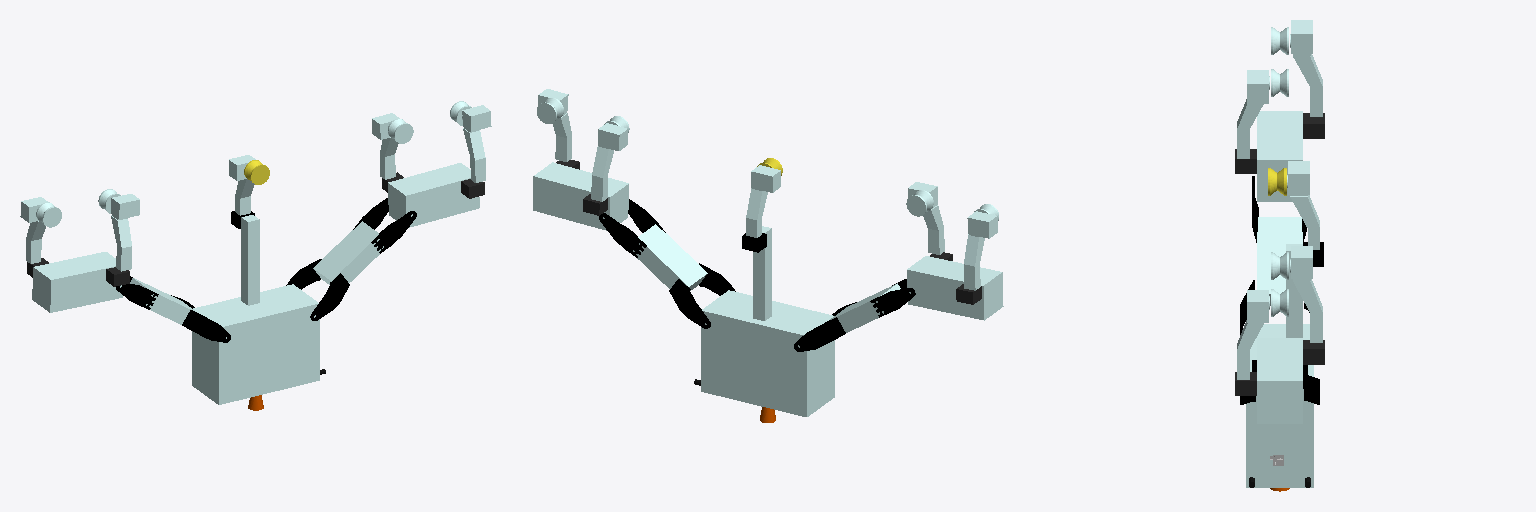
--- Render facts (derived) ---
Views: 3 orthographic renders of the robot side by side, from view 1: azimuth 30°, elevation 25°; view 2: azimuth 150°, elevation 25°; view 3: azimuth 270°, elevation 25°.
Model elir_robot with 22 links and 21 joints (9 revolute, 5 continuous, 7 fixed), rooted at base_link, posed every joint at zero.
Visible links, largest first — view 1: box_link, link1_f, tracao_b, tracao_f, link1_b, garra_tracao_b1, garra_tracao_f2, garra_tracao_b2, garra_tracao_f1, garra_ap; view 2: box_link, link1_f, tracao_b, tracao_f, link1_b, garra_tracao_b2, garra_tracao_f1, garra_ap, garra_tracao_b1, garra_tracao_f2, eixo_tracao_b1, eixo_tracao_f2; view 3: box_link, tracao_f, tracao_b, link1_b, garra_tracao_b2, garra_tracao_f1, garra_tracao_b1, garra_tracao_f2, garra_ap, link1_f.
Link boxes in pixels (x1,y1,x2,y2): box_link: (192,211,319,404); link1_f: (286,198,416,320); tracao_b: (27,252,129,312); tracao_f: (382,163,484,227); link1_b: (116,276,230,342); garra_tracao_b1: (111,194,139,271); garra_tracao_f2: (462,105,491,182); garra_tracao_b2: (20,197,47,263); garra_tracao_f1: (372,113,399,179); garra_ap: (229,155,255,215); box_link: (701,226,834,416); link1_f: (599,199,735,328); tracao_b: (907,252,1003,320); tracao_f: (533,160,628,230); link1_b: (794,279,915,351); garra_tracao_b2: (964,211,997,290); garra_tracao_f1: (591,123,627,201); garra_ap: (746,165,780,237); garra_tracao_b1: (908,182,944,254); garra_tracao_f2: (538,89,571,161); eixo_tracao_b1: (906,190,933,216); eixo_tracao_f2: (537,98,563,123); box_link: (1246,242,1323,487); tracao_f: (1235,338,1324,423); tracao_b: (1235,111,1324,201); link1_b: (1240,176,1309,334); garra_tracao_b2: (1290,20,1322,116); garra_tracao_f1: (1290,246,1322,342); garra_tracao_b1: (1237,70,1269,158); garra_tracao_f2: (1237,290,1269,379); garra_ap: (1287,161,1319,249); link1_f: (1240,360,1319,404).
Bounding box of the posed robot: 1.42 × 0.19 × 0.7716 m (x, y, z).
20 mesh visuals loaded from 7 distinct referenced files (4 binary STL, 2 Collada DAE); not drawn: 1 (reference not matched to a file when rendering).

The robot description file, URDF, robot "elir_robot":
<?xml version="1.0" ?>
<!-- =================================================================================== -->
<!-- |    This document was autogenerated by xacro from elir.urdf.xacro                | -->
<!-- |    EDITING THIS FILE BY HAND IS NOT RECOMMENDED                                 | -->
<!-- =================================================================================== -->
<robot name="elir_robot" xmlns:controller="http://playerstage.sourceforge.net/gazebo/xmlschema/#controller" xmlns:interface="http://playerstage.sourceforge.net/gazebo/xmlschema/#interface" xmlns:sensor="http://playerstage.sourceforge.net/gazebo/xmlschema/#sensor" xmlns:xacro="http://www.ros.org/wiki/xacro">
  <material name="black">
    <color rgba="0.0 0.0 0.0 1.0"/>
  </material>
  <material name="blue">
    <color rgba="0.0 0.0 0.8 1.0"/>
  </material>
  <material name="green">
    <color rgba="0.0 0.8 0.0 1.0"/>
  </material>
  <material name="grey">
    <color rgba="0.2 0.2 0.2 1.0"/>
  </material>
  <material name="orange">
    <color rgba="1.0 0.423529411765 0.0392156862745 1.0"/>
  </material>
  <material name="brown">
    <color rgba="0.870588235294 0.811764705882 0.764705882353 1.0"/>
  </material>
  <material name="red">
    <color rgba="0.8 0.0 0.0 1.0"/>
  </material>
  <material name="white">
    <color rgba="1.0 1.0 1.0 1.0"/>
  </material>
  <material name="silver">
    <color rgba="0.870588235294 1.0 0.996078431373 1.0"/>
  </material>
  <gazebo>
    <plugin filename="libgazebo_ros_control.so" name="gazebo_ros_control">
      <robotNamespace>/robot</robotNamespace>
      <robotSimType>gazebo_ros_control/DefaultRobotHWSim</robotSimType>
    </plugin>
  </gazebo>
  <!-- Base link-->
  <gazebo reference="base_link">
    <dampingFactor>0.01</dampingFactor>
    <material name="grey"/>
    <self_collide>true</self_collide>
  </gazebo>
  <!-- Link1 -->
  <gazebo reference="link1_f">
    <dampingFactor>0.01</dampingFactor>
    <material name="grey"/>
  </gazebo>
  <gazebo reference="link1_t">
    <dampingFactor>0.01</dampingFactor>
    <material name="grey"/>
  </gazebo>
  <!-- Tracao -->
  <gazebo reference="tracao_f">
    <dampingFactor>0.01</dampingFactor>
    <material name="grey"/>
  </gazebo>
  <gazebo reference="tracao_b">
    <dampingFactor>0.01</dampingFactor>
    <material name="grey"/>
  </gazebo>
  <!-- Garras -->
  <gazebo reference="garra_ap">
    <dampingFactor>0.02</dampingFactor>
    <material name="grey"/>
  </gazebo>
  <gazebo reference="garra_tracao_f1">
    <dampingFactor>0.02</dampingFactor>
    <material name="grey"/>
  </gazebo>
  <gazebo reference="garra_tracao_f2">
    <dampingFactor>0.02</dampingFactor>
    <material name="grey"/>
  </gazebo>
  <gazebo reference="garra_tracao_b1">
    <dampingFactor>0.02</dampingFactor>
    <material name="grey"/>
  </gazebo>
  <gazebo reference="garra_tracao_b2">
    <dampingFactor>0.02</dampingFactor>
    <material name="grey"/>
  </gazebo>
  <!-- Eixos -->
  <gazebo reference="eixo_tracao_ap">
    <mu1>0.3</mu1>
    <mu2>0.3</mu2>
    <material name="black"/>
  </gazebo>
  <gazebo reference="eixo_tracao_f1">
    <mu1>0.3</mu1>
    <mu2>0.3</mu2>
    <material name="black"/>
  </gazebo>
  <gazebo reference="eixo_tracao_f2">
    <mu1>0.3</mu1>
    <mu2>0.3</mu2>
    <material name="black"/>
  </gazebo>
  <gazebo reference="eixo_tracao_b1">
    <mu1>0.3</mu1>
    <mu2>0.3</mu2>
    <material name="black"/>
  </gazebo>
  <gazebo reference="eixo_tracao_b2">
    <mu1>0.3</mu1>
    <mu2>0.3</mu2>
    <material name="black"/>
  </gazebo>
  <gazebo reference="zed_left_camera">
    <sensor name="zed_left_camera" type="camera">
      <update_rate>30.0</update_rate>
      <camera name="head">
        <horizontal_fov>1.3962634</horizontal_fov>
        <image>
          <width>800</width>
          <height>800</height>
          <format>R8G8B8</format>
        </image>
        <clip>
          <near>0.02</near>
          <far>300</far>
        </clip>
        <noise>
          <type>gaussian</type>
          <mean>0.0</mean>
          <stddev>0.007</stddev>
        </noise>
      </camera>
      <plugin filename="libgazebo_ros_camera.so" name="camera_controller">
        <alwaysOn>true</alwaysOn>
        <updateRate>0.0</updateRate>
        <cameraName>detection/zed_left_camera</cameraName>
        <imageTopicName>image_raw</imageTopicName>
        <cameraInfoTopicName>camera_info</cameraInfoTopicName>
        <frameName>camera_link</frameName>
        <hackBaseline>0.07</hackBaseline>
        <distortionK1>0.0</distortionK1>
        <distortionK2>0.0</distortionK2>
        <distortionK3>0.0</distortionK3>
        <distortionT1>0.0</distortionT1>
        <distortionT2>0.0</distortionT2>
      </plugin>
    </sensor>
  </gazebo>
  <gazebo reference="zed_right_camera">
    <sensor name="zed_right_camera" type="camera">
      <update_rate>30.0</update_rate>
      <camera name="head">
        <horizontal_fov>1.3962634</horizontal_fov>
        <image>
          <width>800</width>
          <height>800</height>
          <format>R8G8B8</format>
        </image>
        <clip>
          <near>0.02</near>
          <far>300</far>
        </clip>
        <noise>
          <type>gaussian</type>
          <mean>0.0</mean>
          <stddev>0.007</stddev>
        </noise>
      </camera>
      <plugin filename="libgazebo_ros_camera.so" name="camera_controller">
        <alwaysOn>true</alwaysOn>
        <updateRate>0.0</updateRate>
        <cameraName>detection/zed_right_camera</cameraName>
        <imageTopicName>image_raw</imageTopicName>
        <cameraInfoTopicName>camera_info</cameraInfoTopicName>
        <frameName>camera_link</frameName>
        <hackBaseline>0.07</hackBaseline>
        <distortionK1>0.0</distortionK1>
        <distortionK2>0.0</distortionK2>
        <distortionK3>0.0</distortionK3>
        <distortionT1>0.0</distortionT1>
        <distortionT2>0.0</distortionT2>
      </plugin>
    </sensor>
  </gazebo>
  <gazebo reference="ground_sonar">
    <sensor name="ground_sonar" type="ray">
      <always_on>true</always_on>
      <update_rate>30</update_rate>
      <pose>0 0 0 0 0 0</pose>
      <visualize>false</visualize>
      <ray>
        <scan>
          <horizontal>
            <samples>1</samples>
            <resolution>1</resolution>
            <min_angle>-0.52355</min_angle>
            <max_angle> 0.52355</max_angle>
          </horizontal>
          <vertical>
            <samples>1</samples>
            <resolution>1</resolution>
            <min_angle>-0.52355</min_angle>
            <max_angle> 0.52355</max_angle>
          </vertical>
        </scan>
        <range>
          <min>0.1</min>
          <max>100</max>
          <resolution>0.01</resolution>
        </range>
      </ray>
      <plugin filename="libhector_gazebo_ros_sonar.so" name="gazebo_ros_ground_sonar_controller">
        <gaussianNoise>0.005</gaussianNoise>
        <topicName>perception/ground_sonar</topicName>
        <frameId>ground_sonar</frameId>
      </plugin>
    </sensor>
  </gazebo>
  <gazebo reference="flir_camera">
    <sensor name="thermal_camera_sensor" type="camera">
      <update_rate>30</update_rate>
      <camera>
        <horizontal_fov>0.890117733333</horizontal_fov>
        <image>
          <format>R8G8B8</format>
          <width>60</width>
          <height>80</height>
        </image>
        <clip>
          <near>0.1</near>
          <far>300</far>
        </clip>
      </camera>
      <plugin filename="libgazebo_ros_thermal_camera.so" name="thermal_camera_controller">
        <alwaysOn>true</alwaysOn>
        <updateRate>8.6</updateRate>
        <imageTopicName>/perception/flir_camera/image_raw</imageTopicName>
        <cameraInfoTopicName>/perception/flir_camera/camera_info</cameraInfoTopicName>
        <frameName>flir_camera_optical_frame</frameName>
      </plugin>
    </sensor>
  </gazebo>
  <!-- Parametros do box_link-->
  <link name="base_link">
  </link>
  <joint name="base_joint" type="fixed">
    <origin rpy="0.0 0.0 0.0" xyz="0.0 0.0 0.11785"/>
    <parent link="base_link"/>
    <child link="box_link"/>
    <axis xyz="0.0 0.0 0.0"/>
    <limit effort="0.0" lower="0.0" upper="0.0" velocity="0.0"/>
  </joint>
  <!-- This link represents the base body of the robot, the central stem and the central's claw base -->
  <link name="box_link">
    <!-- This visual represents the base body-->
    <visual name="base_body">
      <geometry>
        <box size="0.3219 0.1461 0.2357"/>
      </geometry>
      <material name="silver"/>
    </visual>
    <!-- This visual represents the central stem -->
    <visual name="central_stem">
      <geometry>
        <box size="0.0367 0.0367 0.279"/>
      </geometry>
      <material name="silver"/>
      <!-- <xacro:insert_block name="a.test_central_stem_origin" /> -->
      <origin rpy="0 0 0" xyz="0 0.0303 0.23365"/>
    </visual>
    <!-- This visual represents the claw's base in the central stem -->
    <!-- Need to check mesh design to see if dimensions is the same as the actual dimensions of elir -->
    <visual name="central_claw_base">
      <geometry>
        <box size="0.051 0.045 0.036 "/>
      </geometry>
      <material name="black"/>
      <origin rpy="0 0 0" xyz="0.0 0.0722 0.3554"/>
    </visual>
    <!-- This collision is for the base_body -->
    <collision name="base_body">
      <geometry>
        <box size="0.3219 0.1461 0.2357"/>
      </geometry>
      <origin rpy="0 0 0" xyz="0.0 0.0 0"/>
    </collision>
    <!-- This collision is for the central_stem -->
    <collision name="central_stem">
      <geometry>
        <box size="0.0367 0.0367 0.279"/>
      </geometry>
      <origin rpy="0 0 0" xyz="0 0.0303 0.23365"/>
    </collision>
    <!-- This collision is for the central_claw_base -->
    <collision name="central_claw_base">
      <geometry>
        <box size="0.051 0.045 0.036 "/>
      </geometry>
      <origin rpy="0 0 0" xyz="0.0 0.0722 0.3554"/>
    </collision>
    <inertial>
      <origin rpy="0 0 0" xyz="-0.00588 0.001 0.0171"/>
      <mass value="4.565"/>
      <inertia ixx="9.8478" ixy="-0.0181" ixz="-0.0877" iyy="15.5246" iyz="-0.5623" izz="9.2774"/>
    </inertial>
  </link>
  <!-- this joint binds the base body (represented by the link box_link) with the central claw unit (represented by the link garra_ap). It can rotate with the z axis fixed, it has an upper limit of 3,14 (180 degrees) and a lower limit of -3,14 (-180 degrees) -->
  <joint name="joint_garra_ap" type="revolute">
    <parent link="box_link"/>
    <child link="garra_ap"/>
    <origin rpy="0 0 3.141592" xyz="0.0 0.0722 0.3554"/>
    <limit effort="1000.0" lower="-3.14" upper="3.14" velocity="0.5"/>
    <axis xyz="0 0 1"/>
  </joint>
  <!-- this link represents the central claw unit -->
  <link name="garra_ap">
    <!-- This visual represents the central claw unit -->
    <!-- Need to check mesh design to see if dimensions is the same as the actual dimensions of elir -->
    <visual name="central_claw">
      <geometry>
        <mesh filename="package://elir_description/meshes/claw.dae"/>
      </geometry>
      <material name="silver"/>
    </visual>
    <!-- This collision is for the central claw unit -->
    <collision name="central_claw">
      <geometry>
        <mesh filename="package://elir_description/meshes/claw.dae"/>
      </geometry>
    </collision>
    <inertial>
      <origin rpy="0 0 0" xyz="0.0 0.015953 0.116844"/>
      <mass value="0.22"/>
      <inertia ixx="0.000598" ixy="0.0" ixz="0.0" iyy="0.000866" iyz="0.000169" izz="0.000866"/>
    </inertial>
  </link>
  <!-- this joint binds the central claw unit (represented by the link garra_ap) with the central traction unit (represented by the link eixo_tracao_ap). It can move contunuously with the y axis fixed. It moves forward and backward -->
  <joint name="joint_eixo_tracao_ap" type="continuous">
    <parent link="garra_ap"/>
    <child link="eixo_tracao_ap"/>
    <origin rpy="0 0 0" xyz="0.0 0.058 0.172"/>
    <axis xyz="0 1 0"/>
    <dynamics damping="0.7" friction="1.0"/>
  </joint>
  <!-- this link represents the central traction unit -->
  <link name="eixo_tracao_ap">
    <!-- This visual represents the central traction unit -->
    <!-- Need to check mesh design to see if dimensions is the same as the actual dimensions of elir -->
    <visual name="central_traction">
      <geometry>
        <mesh filename="package://elir_description/meshes/wheel_elir.STL" scale="0.001 0.001 0.001"/>
      </geometry>
      <origin rpy="0 0 0" xyz="-0.03 0 -0.03"/>
    </visual>
    <!-- This collision is for the central traction unit -->
    <collision name="central_traction">
      <geometry>
        <mesh filename="package://elir_description/meshes/wheel_elir.STL" scale="0.001 0.001 0.001"/>
      </geometry>
      <origin rpy="0 0 0" xyz="-0.03 0 -0.03"/>
    </collision>
    <inertial>
      <origin rpy="0 0 0" xyz="0.0 0.026065 0.0"/>
      <mass value="0.1"/>
      <inertia ixx="4.94e-05" ixy="0.0" ixz="0.0" iyy="6.11e-05" iyz="0.0" izz="4.94e-05"/>
    </inertial>
  </link>
  <!-- This joint binds the base body (represented by the link box_link) and the front arm unit (represented by the link link1_f). it can rotate with the y axis fixed, it has an upper limit of 0.7 (40 degrees) and a lower limit of -1.74 (-100 degrees) -->
  <joint name="joint1_b" type="revolute">
    <parent link="box_link"/>
    <child link="link1_b"/>
    <!-- <origin rpy=" 0 -0.60 3.141592" xyz="-0.13 0.0 0.079"/> -->
    <origin rpy=" 0 -0.6 3.141592" xyz="-0.13 0.0 0.079"/>
    <limit effort="1000.0" lower="-1.74" upper="0.7" velocity="0.5"/>
    <axis xyz="0 1 0"/>
  </joint>
  <!-- This link represents the front arm unit  -->
  <link name="link1_b">
    <!-- <visual>
      <geometry>
        <box size="0.185 0.102 0.102"/>
      </geometry>
      <material name="silver"/>
      <origin rpy="0 0 0" xyz="0.1985 0.0 0.0"/>
    </visual> -->
    <!-- This visual represents the front arm unit -->
    <visual name="back_arm">
      <geometry>
        <box size="0.19 0.100 0.05"/>
      </geometry>
      <material name="silver"/>
      <origin rpy="0 0 0" xyz="0.20995 0.0 0.0"/>
    </visual>
    <visual name="base_left_pallet">
      <geometry>
        <mesh filename="package://elir_description/meshes/PIR-M01-003-0_HolderWingWide.STL" scale="0.001 0.001 0.001"/>
      </geometry>
      <material name="black"/>
      <origin rpy="1.570796 0 0" xyz="0 0.085 -0.025"/>
    </visual>
    <visual name="base_right_pallet">
      <geometry>
        <mesh filename="package://elir_description/meshes/PIR-M01-003-0_HolderWingWide.STL" scale="0.001 0.001 0.001"/>
      </geometry>
      <material name="black"/>
      <origin rpy="-1.570796 0 0" xyz="0 -0.085 0.025"/>
    </visual>
    <visual name="traction_left_pallet">
      <geometry>
        <mesh filename="package://elir_description/meshes/PIR-M01-002-0_HolderWing.STL" scale="0.001 0.001 0.001"/>
      </geometry>
      <material name="black"/>
      <origin rpy="1.570796 -3.141592 0" xyz="0.4199 0.06 0.025"/>
    </visual>
    <visual name="traction_right_pallet">
      <geometry>
        <mesh filename="package://elir_description/meshes/PIR-M01-002-0_HolderWing.STL" scale="0.001 0.001 0.001"/>
      </geometry>
      <material name="black"/>
      <origin rpy="-1.570796 -3.141592 0" xyz="0.4199 -0.06 -0.025"/>
    </visual>
    <!-- this collision is for the front arm unit -->
    <collision name="back_arm">
      <geometry>
        <box size="0.19 0.100 0.05"/>
      </geometry>
      <origin rpy="0 0 0" xyz="0.20995 0.0 0.0"/>
    </collision>
    <inertial>
      <origin rpy="0 0 0" xyz="-0.09625 0.08644 0.00657"/>
      <mass value="0.386"/>
      <inertia ixx="0.3971" ixy="0.0" ixz="0.0" iyy="2.2533" iyz="0.0" izz="2.3067"/>
    </inertial>
  </link>
  <!-- This joint binds the base body (represented by the link box_link) and the back arm unit (represented by the link link1_t). it can rotate with the y axis fixed, it has an upper limit of 0.7 (40 degrees) and a lower limit of -1.74 (-100 degrees) -->
  <joint name="joint1_f" type="revolute">
    <parent link="box_link"/>
    <child link="link1_f"/>
    <!-- <origin rpy="0 -0.60 0" xyz="0.13 0.0 0.079"/> -->
    <origin rpy=" 0 -0.6 0" xyz="0.13 0.0 0.079"/>
    <limit effort="1000.0" lower="-1.74" upper="0.7" velocity="0.5"/>
    <axis xyz="0 1 0"/>
  </joint>
  <!-- This link represents the back arm unit  -->
  <link name="link1_f">
    <!-- <visual>
      <geometry>
        <box size="0.185 0.102 0.102"/>
      </geometry>
      <material name="silver"/>
      <origin rpy="0 0 0" xyz="0.1985 0.0 0.0"/>
    </visual> -->
    <!-- This visual represents the back arm unit -->
    <visual name="front_arm">
      <geometry>
        <box size="0.19 0.100 0.05"/>
      </geometry>
      <material name="silver"/>
      <origin rpy="0 0 0" xyz="0.20995 0.0 0.0"/>
    </visual>
    <!-- this collision is for the back arm unit -->
    <visual name="base_left_pallet">
      <geometry>
        <mesh filename="package://elir_description/meshes/PIR-M01-003-0_HolderWingWide.STL" scale="0.001 0.001 0.001"/>
      </geometry>
      <material name="black"/>
      <origin rpy="1.570796 0 0" xyz="0 0.085 -0.025"/>
    </visual>
    <visual name="base_right_pallet">
      <geometry>
        <mesh filename="package://elir_description/meshes/PIR-M01-003-0_HolderWingWide.STL" scale="0.001 0.001 0.001"/>
      </geometry>
      <material name="black"/>
      <origin rpy="-1.570796 0 0" xyz="0 -0.085 0.025"/>
    </visual>
    <visual name="traction_left_pallet">
      <geometry>
        <mesh filename="package://elir_description/meshes/PIR-M01-002-0_HolderWing.STL" scale="0.001 0.001 0.001"/>
      </geometry>
      <material name="black"/>
      <origin rpy="1.570796 -3.141592 0" xyz="0.4199 0.06 0.025"/>
    </visual>
    ]

    
    <visual name="traction_right_pallet">
      <geometry>
        <mesh filename="package://elir_description/meshes/PIR-M01-002-0_HolderWing.STL" scale="0.001 0.001 0.001"/>
      </geometry>
      <material name="black"/>
      <origin rpy="-1.570796 -3.141592 0" xyz="0.4199 -0.06 -0.025"/>
    </visual>
    <collision name="front_arm">
      <geometry>
        <box size="0.19 0.100 0.05"/>
      </geometry>
      <origin rpy="0 0 0" xyz="0.20995 0.0 0.0"/>
    </collision>
    <inertial>
      <origin rpy="0 0 0" xyz="-0.09625 0.08644 0.00657"/>
      <mass value="0.386"/>
      <inertia ixx="0.3971" ixy="0.0" ixz="0.0" iyy="2.2533" iyz="0.0" izz="2.3067"/>
    </inertial>
  </link>
  <!-- This joint binds the front arm unit (represented by the link link1_f) and the front traction body unit (represented by the link tracao_f). It can rotate with the y axis fixed, it has an upper limit of 2.18 (125 degrees) and a lower limit of -1.0 (-57 degrees) -->
  <joint name="joint2_f" type="revolute">
    <parent link="link1_f"/>
    <child link="tracao_f"/>
    <origin rpy="0 0.57 0" xyz="0.39 0.0 0.0"/>
    <limit effort="1000.0" lower="-1.0" upper="2.18" velocity="0.5"/>
    <axis xyz="0 1 0"/>
  </joint>
  <!-- This link represents the front traction body unit that contains front traction body, claw f1 support and claw f2 support -->
  <link name="tracao_f">
    <!-- This visual represents the front traction body -->
    <visual name="front_traction_body">
      <geometry>
        <box size="0.233 0.100 0.100"/>
      </geometry>
      <material name="silver"/>
      <origin rpy="0 0 0" xyz="0.1165 0.0 0.0201"/>
    </visual>
    <!-- This visual represents the front traction claw f2 support -->
    <!-- Need to check mesh design to see if dimensions is the same as the actual dimensions of elir -->
    <visual name="front_traction_claw_f1_support">
      <geometry>
        <box size="0.051 0.045 0.036 "/>
      </geometry>
      <material name="grey"/>
      <origin rpy="0 0 0" xyz="0.0315 0.0725 0.05"/>
    </visual>
    <!-- This visual represents the front traction claw f1 support -->
    <!-- Need to check mesh design to see if dimensions is the same as the actual dimensions of elir -->
    <visual name="front_traction_claw_f2_support">
      <geometry>
        <box size="0.051 0.045 0.036 "/>
      </geometry>
      <material name="grey"/>
      <origin rpy="0 0 0" xyz="0.2015 -0.0725 0.05"/>
    </visual>
    <!-- this collision is for the front traction body -->
    <collision name="front_traction_body">
      <geometry>
        <box size="0.233 0.100 0.100"/>
      </geometry>
      <origin rpy="0 0 0" xyz="0.1165 0.0 0.0201"/>
    </collision>
    <!-- this collision is for the front traction claw f2 support -->
    <collision name="front_traction_claw_f2_support">
      <geometry>
        <box size="0.051 0.045 0.036 "/>
      </geometry>
      <origin rpy="0 0 0" xyz="0.0005 0.075 0.0521"/>
    </collision>
    <!-- this collision is for the front traction claw f1 support -->
    <collision name="front_traction_claw_f1_support">
      <geometry>
        <box size="0.051 0.045 0.036 "/>
      </geometry>
      <origin rpy="0 0 3.141592" xyz="0.1765 -0.075 0.0521"/>
    </collision>
    <inertial>
      <origin rpy="0 0 0" xyz="0.03499 0.0 0.0"/>
      <mass value="0.792"/>
      <inertia ixx="0.5622" ixy="0.161" ixz="0.0008" iyy="1.0746" iyz="0.0" izz="1.2126"/>
    </inertial>
  </link>
  <!-- This joint binds the back arm unit (represented by the link link1_t) and the back traction body unit (represented by the link tracao_b). It can rotate with the y axis fixed, it has an upper limit of 2.18 (125 degrees) and a lower limit of -1.0 (-57 degrees) -->
  <joint name="joint2_b" type="revolute">
    <parent link="link1_b"/>
    <child link="tracao_b"/>
    <origin rpy="0 0.57 0" xyz="0.39 0.0 0.0"/>
    <limit effort="1000.0" lower="-1.0" upper="2.18" velocity="0.5"/>
    <axis xyz="0 1 0"/>
  </joint>
  <!-- This link represents the back traction body unit that contains back traction body, claw f1 support and claw f2 support -->
  <link name="tracao_b">
    <!-- This visual represents the  back traction body -->
    <visual name="back_traction_body">
      <geometry>
        <box size="0.233 0.100 0.100"/>
      </geometry>
      <material name="silver"/>
      <origin rpy="0 0 0" xyz="0.1165 0.0 0.0201"/>
    </visual>
    <!-- This visual represents the  back traction claw f1 support -->
    <visual name="back_traction_claw_f1_support">
      <geometry>
        <box size="0.051 0.045 0.036 "/>
      </geometry>
      <material name="grey"/>
      <origin rpy="0 0 0" xyz="0.0315 0.0725 0.05"/>
    </visual>
    <!-- This visual represents the  back traction claw f2 support -->
    <visual name="back_traction_claw_f2_support">
      <geometry>
        <box size="0.051 0.045 0.036 "/>
      </geometry>
      <material name="grey"/>
      <origin rpy="0 0 0" xyz="0.2015 -0.0725 0.05"/>
    </visual>
    <!-- this collision is for the back traction body -->
    <collision name="back_traction_body">
      <geometry>
        <box size="0.233 0.100 0.100"/>
      </geometry>
      <origin rpy="0 0 0" xyz="0.1165 0.0 0.0201"/>
    </collision>
    <!-- this collision is for the back traction claw f1 support -->
    <collision name="back_traction_claw_f1_support">
      <geometry>
        <box size="0.051 0.045 0.036 "/>
      </geometry>
      <origin rpy="0 0 0" xyz="0.0005 -0.075 0.0521"/>
    </collision>
    <!-- this collision is for the back traction claw f2 support -->
    <collision name="back_traction_claw_f2_support">
      <geometry>
        <box size="0.051 0.045 0.036 "/>
      </geometry>
      <origin rpy="0 0 3.141592" xyz="0.1765 0.075 0.0521"/>
    </collision>
    <inertial>
      <origin rpy="0 0 0" xyz="0.03499 0.0 0.0"/>
      <mass value="0.792"/>
      <inertia ixx="0.5622" ixy="0.161" ixz="0.0008" iyy="1.0746" iyz="0.0" izz="1.2126"/>
    </inertial>
  </link>
  <!-- This joint binds the front traction body unit (represented by the link tracao_f) and the front f1 claw unit (represented by the link garra_tracao_f1). It can rotate with the z axis fixed, it has an upper limit of 3.14 (360 degrees) and lower limit of -3.14 (-360 degrees) -->
  <joint name="joint_garra_tracao_f1" type="revolute">
    <parent link="tracao_f"/>
    <child link="garra_tracao_f1"/>
    <origin rpy="0 0 3.141592" xyz="0.017 0.078 0.0725"/>
    <limit effort="1000.0" lower="-3.14" upper="3.14" velocity="0.5"/>
    <axis xyz="0 0 1"/>
  </joint>
  <!-- this link represents the front f1 claw unit -->
  <link name="garra_tracao_f1">
    <!-- Need to check mesh design to see if dimensions is the same as the actual dimensions of elir -->
    <!-- This visual represents the front f1 claw unit -->
    <visual>
      <geometry>
        <mesh filename="package://elir_description/meshes/claw.dae"/>
      </geometry>
      <material name="silver"/>
      <origin rpy="0 0 0" xyz="0.0 0.0 0.0"/>
    </visual>
    <!-- this collision is for the front f1 claw unit -->
    <collision>
      <geometry>
        <mesh filename="package://elir_description/meshes/claw.dae"/>
      </geometry>
      <origin rpy="0 0 0" xyz="0.0 0.0 0.0"/>
    </collision>
    <inertial>
      <origin rpy="0 0 0" xyz="0.0 0.015953 0.116844"/>
      <mass value="0.22"/>
      <inertia ixx="0.000598" ixy="0.0" ixz="0.0" iyy="0.000866" iyz="0.000169" izz="0.000866"/>
    </inertial>
  </link>
  <!-- this joint binds the front f1 claw unit (represented by the link garra_tracao_f1) with the front f1 traction unit (represented by the link eixo_tracao_f1). It can move contunuously with the y axis fixed. It moves forward and backward -->
  <joint name="joint_eixo_tracao_f1" type="continuous">
    <parent link="garra_tracao_f1"/>
    <child link="eixo_tracao_f1"/>
    <origin rpy="0 0 0" xyz="0.0 0.058 0.172"/>
    <axis xyz="0 1 0"/>
    <dynamics damping="0.7" friction="1.0"/>
  </joint>
  <!-- this link represents the front f1 traction unit -->
  <link name="eixo_tracao_f1">
    <!-- This visual represents the front f1 traction unit -->
    <!-- Need to check mesh design to see if dimensions is the same as the actual dimensions of elir -->
    <visual>
      <geometry>
        <mesh filename="package://elir_description/meshes/wheel_elir.STL" scale="0.001 0.001 0.001"/>
      </geometry>
      <material name="silver"/>
      <origin rpy="0 0 0" xyz="-0.03 0 -0.0305"/>
    </visual>
    <!-- This collision is for the front f1 traction unit -->
    <collision>
      <geometry>
        <mesh filename="package://elir_description/meshes/wheel_elir.STL" scale="0.001 0.001 0.001"/>
      </geometry>
      <origin rpy="0 0 0" xyz="-0.03 0 -0.03"/>
    </collision>
    <inertial>
      <origin rpy="0 0 0" xyz="0.0 0.026065 0.0"/>
      <mass value="0.1"/>
      <inertia ixx="4.94e-05" ixy="0.0" ixz="0.0" iyy="6.11e-05" iyz="0.0" izz="4.94e-05"/>
    </inertial>
  </link>
  <!-- This joint binds the front traction body unit (represented by the link tracao_f) and the front f2 claw unit (represented by the link garra_tracao_f2). It can rotate with the z axis fixed, it has an upper limit of 3.14 (360 degrees) and lower limit of -3.14 (-360 degrees) -->
  <joint name="joint_garra_tracao_f2" type="revolute">
    <parent link="tracao_f"/>
    <child link="garra_tracao_f2"/>
    <origin rpy="0 0 0" xyz="0.216 -0.078 0.0725"/>
    <limit effort="1000.0" lower="-3.14" upper="3.14" velocity="0.5"/>
    <axis xyz="0 0 1"/>
  </joint>
  <!-- this link represents the front f2 claw unit -->
  <link name="garra_tracao_f2">
    <!-- Need to check mesh design to see if dimensions is the same as the actual dimensions of elir -->
    <!-- This visual represents the front f2 claw unit -->
    <visual>
      <geometry>
        <mesh filename="package://elir_description/meshes/claw.dae"/>
      </geometry>
      <material name="silver"/>
      <origin rpy="0 0 0" xyz="0.0 0.0 0.0"/>
    </visual>
    <!-- this collision is for the front f2 claw unit -->
    <collision>
      <geometry>
        <mesh filename="package://elir_description/meshes/claw.dae"/>
      </geometry>
      <origin rpy="0 0 0" xyz="0.0 0.0 0.0"/>
    </collision>
    <inertial>
      <origin rpy="0 0 0" xyz="0.0 0.015953 0.116844"/>
      <mass value="0.22"/>
      <inertia ixx="0.000598" ixy="0.0" ixz="0.0" iyy="0.000866" iyz="0.000169" izz="0.000866"/>
    </inertial>
  </link>
  <!-- this joint binds the front f2 claw unit (represented by the link garra_tracao_f2) with the front f2 traction unit (represented by the link eixo_tracao_f2). It can move contunuously with the y axis fixed. It moves forward and backward -->
  <joint name="joint_eixo_tracao_f2" type="continuous">
    <parent link="garra_tracao_f2"/>
    <child link="eixo_tracao_f2"/>
    <origin rpy="0 0 0" xyz="0.0 0.058 0.172"/>
    <axis xyz="0 1 0"/>
    <dynamics damping="0.7" friction="1.0"/>
  </joint>
  <!-- this link represents the front f2 traction unit -->
  <link name="eixo_tracao_f2">
    <!-- This visual represents the front f2 traction unit -->
    <!-- Need to check mesh design to see if dimensions is the same as the actual dimensions of elir -->
    <visual>
      <geometry>
        <mesh filename="package://elir_description/meshes/wheel_elir.STL" scale="0.001 0.001 0.001"/>
      </geometry>
      <material name="silver"/>
      <origin rpy="0 0 0" xyz="-0.03 0 -0.03"/>
    </visual>
    <!-- This collision is for the front f2 traction unit -->
    <collision>
      <geometry>
        <mesh filename="package://elir_description/meshes/wheel_elir.STL" scale="0.001 0.001 0.001"/>
      </geometry>
      <origin rpy="0 0 0" xyz="-0.03 0 -0.03"/>
    </collision>
    <inertial>
      <origin rpy="0 0 0" xyz="0.0 0.026065 0.0"/>
      <mass value="0.1"/>
      <inertia ixx="4.94e-05" ixy="0.0" ixz="0.0" iyy="6.11e-05" iyz="0.0" izz="4.94e-05"/>
    </inertial>
  </link>
  <!-- GARRAS TRACAO TRASEIRA -->
  <!-- T1 -->
  <!-- This joint binds the front traction body unit (represented by the link tracao_f) and the back t1 claw unit (represented by the link garra_tracao_b1). It can rotate with the z axis fixed, it has an upper limit of 3.14 (360 degrees) and lower limit of -3.14 (-360 degrees) -->
  <joint name="joint_garra_tracao_b1" type="revolute">
    <parent link="tracao_b"/>
    <child link="garra_tracao_b1"/>
    <origin rpy="0 0 3.141592" xyz="0.017 0.078 0.0725"/>
    <limit effort="1000.0" lower="-3.14" upper="3.14" velocity="0.5"/>
    <axis xyz="0 0 1"/>
  </joint>
  <!-- this link represents the back t1 claw unit -->
  <link name="garra_tracao_b1">
    <!-- Need to check mesh design to see if dimensions is the same as the actual dimensions of elir -->
    <!-- This visual represents the back t1 claw unit -->
    <visual>
      <geometry>
        <mesh filename="package://elir_description/meshes/claw.dae"/>
      </geometry>
      <material name="silver"/>
      <origin rpy="0 0 0" xyz="0.0 0.0 0.0"/>
    </visual>
    <!-- this collision is for the back t1 claw unit -->
    <collision>
      <geometry>
        <mesh filename="package://elir_description/meshes/claw.dae"/>
      </geometry>
      <origin rpy="0 0 0" xyz="0.0 0.0 0.0"/>
    </collision>
    <inertial>
      <origin rpy="0 0 0" xyz="0.0 0.015953 0.116844"/>
      <mass value="0.22"/>
      <inertia ixx="0.000598" ixy="0.0" ixz="0.0" iyy="0.000866" iyz="0.000169" izz="0.000866"/>
    </inertial>
  </link>
  <!-- Eixo T1 -->
  <!-- this joint binds the back t1 claw unit (represented by the link garra_tracao_b1) with the back t1 traction unit (represented by the link eixo_tracao_b1). It can move contunuously with the y axis fixed. It moves forward and backward -->
  <joint name="joint_eixo_tracao_b1" type="continuous">
    <parent link="garra_tracao_b1"/>
    <child link="eixo_tracao_b1"/>
    <origin rpy="0 0 0" xyz="0.0 0.058 0.172"/>
    <axis xyz="0 1 0"/>
    <dynamics damping="0.7" friction="1.0"/>
  </joint>
  <!-- this link represents the back t1 traction unit -->
  <link name="eixo_tracao_b1">
    <!-- This visual represents the back t1 traction unit -->
    <!-- Need to check mesh design to see if dimensions is the same as the actual dimensions of elir -->
    <visual>
      <geometry>
        <mesh filename="package://elir_description/meshes/wheel_elir.STL" scale="0.001 0.001 0.001"/>
      </geometry>
      <material name="silver"/>
      <origin rpy="0 0 0" xyz="-0.03 0 -0.03"/>
    </visual>
    <!-- This collision is for the back t1 traction unit -->
    <collision>
      <geometry>
        <mesh filename="package://elir_description/meshes/wheel_elir.STL" scale="0.001 0.001 0.001"/>
      </geometry>
      <origin rpy="0 0 0" xyz="-0.03 0 -0.03"/>
    </collision>
    <inertial>
      <origin rpy="0 0 0" xyz="0.0 0.026065 0.0"/>
      <mass value="0.1"/>
      <inertia ixx="4.94e-05" ixy="0.0" ixz="0.0" iyy="6.11e-05" iyz="0.0" izz="4.94e-05"/>
    </inertial>
  </link>
  <!-- T2 -->
  <!-- This joint binds the front traction body unit (represented by the link tracao_f) and the back t2 claw unit (represented by the link garra_tracao_b2). It can rotate with the z axis fixed, it has an upper limit of 3.14 (360 degrees) and lower limit of -3.14 (-360 degrees) -->
  <joint name="joint_garra_tracao_b2" type="revolute">
    <parent link="tracao_b"/>
    <child link="garra_tracao_b2"/>
    <origin rpy="0 0 0" xyz="0.216 -0.078 0.0725"/>
    <limit effort="1000.0" lower="-3.14" upper="3.14" velocity="0.5"/>
    <axis xyz="0 0 1"/>
  </joint>
  <!-- this link represents the back t2 claw unit -->
  <link name="garra_tracao_b2">
    <!-- Need to check mesh design to see if dimensions is the same as the actual dimensions of elir -->
    <!-- This visual represents the back t2 claw unit -->
    <visual>
      <geometry>
        <mesh filename="package://elir_description/meshes/claw.dae"/>
      </geometry>
      <material name="silver"/>
      <origin rpy="0 0 0" xyz="0.0 0.0 0.0"/>
    </visual>
    <!-- this collision is for the back t2 claw unit -->
    <collision>
      <geometry>
        <mesh filename="package://elir_description/meshes/claw.dae"/>
      </geometry>
      <origin rpy="0 0 0" xyz="0.0 0.0 0.0"/>
    </collision>
    <inertial>
      <origin rpy="0 0 0" xyz="0.0 0.015953 0.116844"/>
      <mass value="0.22"/>
      <inertia ixx="0.000598" ixy="0.0" ixz="0.0" iyy="0.000866" iyz="0.000169" izz="0.000866"/>
    </inertial>
  </link>
  <!-- Eixo F2 -->
  <!-- this joint binds the back t2 claw unit (represented by the link garra_tracao_b2) with the back t2 traction unit (represented by the link eixo_tracao_b2). It can move contunuously with the y axis fixed. It moves forward and backward -->
  <joint name="joint_eixo_tracao_b2" type="continuous">
    <parent link="garra_tracao_b2"/>
    <child link="eixo_tracao_b2"/>
    <origin rpy="0 0 0" xyz="0.0 0.058 0.172"/>
    <axis xyz="0 1 0"/>
    <dynamics damping="0.7" friction="1.0"/>
  </joint>
  <!-- this link represents the back t2 traction unit -->
  <link name="eixo_tracao_b2">
    <!-- This visual represents the back t2 traction unit -->
    <!-- Need to check mesh design to see if dimensions is the same as the actual dimensions of elir -->
    <visual>
      <geometry>
        <mesh filename="package://elir_description/meshes/wheel_elir.STL" scale="0.001 0.001 0.001"/>
      </geometry>
      <material name="silver"/>
      <origin rpy="0 0 0" xyz="-0.03 0 -0.03"/>
    </visual>
    <!-- This collision is for the back t2 traction unit -->
    <collision>
      <geometry>
        <mesh filename="package://elir_description/meshes/wheel_elir.STL" scale="0.001 0.001 0.001"/>
      </geometry>
      <origin rpy="0 0 0" xyz="-0.03 0 -0.03"/>
    </collision>
    <inertial>
      <origin rpy="0 0 0" xyz="0.0 0.026065 0.0"/>
      <mass value="0.1"/>
      <inertia ixx="4.94e-05" ixy="0.0" ixz="0.0" iyy="6.11e-05" iyz="0.0" izz="4.94e-05"/>
    </inertial>
  </link>
  <link name="zed_left_camera">
    <visual>
      <origin rpy="0 1.57 0" xyz="0 0 0"/>
      <geometry>
        <cylinder length=".031" radius="0.007"/>
      </geometry>
      <material name="dark_grey">
        <color rgba="0.1 0.1 0.1 1"/>
      </material>
    </visual>
  </link>
  <link name="zed_center">
    <visual>
      <origin rpy="0 0 0" xyz="0 0 0"/>
      <geometry>
        <mesh filename="package://elir_description/meshes/ZED.stl"/>
      </geometry>
      <material name="light_grey">
        <color rgba="0.8 0.8 0.8 0.8"/>
      </material>
    </visual>
  </link>
  <link name="zed_right_camera">
    <visual>
      <origin rpy="0 1.57 0" xyz="0 0 0"/>
      <geometry>
        <cylinder length=".031" radius="0.007"/>
      </geometry>
      <material name="dark_grey">
        <color rgba="0.1 0.1 0.1 1"/>
      </material>
    </visual>
  </link>
  <link name="zed_depth_camera"/>
  <joint name="zed_left_camera_joint" type="fixed">
    <parent link="zed_center"/>
    <child link="zed_left_camera"/>
    <origin rpy="0 0 0" xyz="0 0.06 0"/>
  </joint>
  <joint name="zed_depth_camera_joint" type="fixed">
    <parent link="zed_left_camera"/>
    <child link="zed_depth_camera"/>
    <origin rpy="-1.5707963267948966 0 -1.5707963267948966" xyz="0 0 0"/>
  </joint>
  <joint name="zed_right_camera_joint" type="fixed">
    <parent link="zed_center"/>
    <child link="zed_right_camera"/>
    <origin rpy="0 0 0" xyz="0 -0.06 0"/>
  </joint>
  <link name="flir_camera">
    <visual>
      <origin rpy="0 1.570796 0" xyz="0 0 0"/>
      <geometry>
        <mesh filename="package://elir_description/meshes/LeptonBreakoutBoardWithLepton3.stl" scale="0.001 0.001 0.001"/>
      </geometry>
      <material name="light_grey">
        <color rgba="0.8 0.8 0.8 0.8"/>
      </material>
    </visual>
  </link>
  <joint name="zed_camera_joint" type="fixed">
    <parent link="box_link"/>
    <child link="zed_center"/>
    <origin rpy="0 0 0" xyz="0.17 0.0 -0.1"/>
  </joint>
  <joint name="flir_camera_joint" type="fixed">
    <parent link="box_link"/>
    <child link="flir_camera"/>
    <origin rpy="0 0 0" xyz="0.17 0.0 -0.05"/>
  </joint>
  <!-- Sonares -->
  <link name="ground_sonar">
    <visual>
      <geometry>
        <mesh filename="package://elir_description/meshes/groundsonar.dae"/>
      </geometry>
      <origin rpy="0 -1.570796 0"/>
    </visual>
    <collision>
      <geometry>
        <mesh filename="package://elir_description/meshes/groundsonar.dae"/>
      </geometry>
      <origin rpy="0 -1.570796 0"/>
    </collision>
    <inertial>
      <mass value="1e-5"/>
      <inertia ixx="1e-6" ixy="0" ixz="0" iyy="1e-6" iyz="0" izz="1e-6"/>
    </inertial>
  </link>
  <gazebo reference="ground_sonar">
    <material>Gazebo/Gold</material>
  </gazebo>
  <joint name="ground_sonar_base" type="fixed">
    <parent link="box_link"/>
    <child link="ground_sonar"/>
    <origin rpy="0 1.570796 0" xyz="0 0 -0.155"/>
  </joint>
  <!-- ROS Control-->
  <!-- Juntas -->
  <transmission name="tran_joint_1f">
    <type>transmission_interface/SimpleTransmission</type>
    <joint name="joint1_f">
      <hardwareInterface>hardware_interface/EffortJointInterface</hardwareInterface>
    </joint>
    <actuator name="servo11">
      <hardwareInterface>EffortJointInterface</hardwareInterface>
      <mechanicalReduction>1</mechanicalReduction>
    </actuator>
  </transmission>
  <transmission name="tran_joint_2f">
    <type>transmission_interface/SimpleTransmission</type>
    <joint name="joint2_f">
      <hardwareInterface>hardware_interface/EffortJointInterface</hardwareInterface>
    </joint>
    <actuator name="servo13">
      <hardwareInterface>EffortJointInterface</hardwareInterface>
      <mechanicalReduction>1</mechanicalReduction>
    </actuator>
  </transmission>
  <transmission name="tran_joint_1t">
    <type>transmission_interface/SimpleTransmission</type>
    <joint name="joint1_b">
      <hardwareInterface>hardware_interface/EffortJointInterface</hardwareInterface>
    </joint>
    <actuator name="servo22">
      <hardwareInterface>EffortJointInterface</hardwareInterface>
      <mechanicalReduction>1</mechanicalReduction>
    </actuator>
  </transmission>
  <transmission name="tran_joint_2t">
    <type>transmission_interface/SimpleTransmission</type>
    <joint name="joint2_b">
      <hardwareInterface>hardware_interface/EffortJointInterface</hardwareInterface>
    </joint>
    <actuator name="servo24">
      <hardwareInterface>EffortJointInterface</hardwareInterface>
      <mechanicalReduction>1</mechanicalReduction>
    </actuator>
  </transmission>
  <!-- Garras -->
  <transmission name="tran_claw_c1">
    <type>transmission_interface/SimpleTransmission</type>
    <joint name="joint_garra_ap">
      <hardwareInterface>hardware_interface/EffortJointInterface</hardwareInterface>
    </joint>
    <actuator name="servo9">
      <hardwareInterface>EffortJointInterface</hardwareInterface>
      <mechanicalReduction>1</mechanicalReduction>
    </actuator>
  </transmission>
  <transmission name="tran_claw_f1">
    <type>transmission_interface/SimpleTransmission</type>
    <joint name="joint_garra_tracao_f1">
      <hardwareInterface>hardware_interface/EffortJointInterface</hardwareInterface>
    </joint>
    <actuator name="servo15">
      <hardwareInterface>EffortJointInterface</hardwareInterface>
      <mechanicalReduction>1</mechanicalReduction>
    </actuator>
  </transmission>
  <transmission name="tran_claw_f2">
    <type>transmission_interface/SimpleTransmission</type>
    <joint name="joint_garra_tracao_f2">
      <hardwareInterface>hardware_interface/EffortJointInterface</hardwareInterface>
    </joint>
    <actuator name="servo17">
      <hardwareInterface>EffortJointInterface</hardwareInterface>
      <mechanicalReduction>1</mechanicalReduction>
    </actuator>
  </transmission>
  <transmission name="tran_claw_t1">
    <type>transmission_interface/SimpleTransmission</type>
    <joint name="joint_garra_tracao_b1">
      <hardwareInterface>hardware_interface/EffortJointInterface</hardwareInterface>
    </joint>
    <actuator name="servo25">
      <hardwareInterface>EffortJointInterface</hardwareInterface>
      <mechanicalReduction>1</mechanicalReduction>
    </actuator>
  </transmission>
  <transmission name="tran_claw_t2">
    <type>transmission_interface/SimpleTransmission</type>
    <joint name="joint_garra_tracao_b2">
      <hardwareInterface>hardware_interface/EffortJointInterface</hardwareInterface>
    </joint>
    <actuator name="servo27">
      <hardwareInterface>EffortJointInterface</hardwareInterface>
      <mechanicalReduction>1</mechanicalReduction>
    </actuator>
  </transmission>
  <!-- Velocity Controllers -->
  <transmission name="tran_tracao_1c">
    <type>transmission_interface/SimpleTransmission</type>
    <joint name="joint_eixo_tracao_ap">
      <hardwareInterface>hardware_interface/VelocityJointInterface</hardwareInterface>
    </joint>
    <actuator name="servo10">
      <hardwareInterface>VelocityJointInterface</hardwareInterface>
      <mechanicalReduction>1</mechanicalReduction>
    </actuator>
  </transmission>
  <transmission name="tran_tracao_1f">
    <type>transmission_interface/SimpleTransmission</type>
    <joint name="joint_eixo_tracao_f1">
      <hardwareInterface>hardware_interface/VelocityJointInterface</hardwareInterface>
    </joint>
    <actuator name="servo16">
      <hardwareInterface>VelocityJointInterface</hardwareInterface>
      <mechanicalReduction>1</mechanicalReduction>
    </actuator>
  </transmission>
  <transmission name="tran_tracao_2f">
    <type>transmission_interface/SimpleTransmission</type>
    <joint name="joint_eixo_tracao_f2">
      <hardwareInterface>hardware_interface/VelocityJointInterface</hardwareInterface>
    </joint>
    <actuator name="servo18">
      <hardwareInterface>VelocityJointInterface</hardwareInterface>
      <mechanicalReduction>1</mechanicalReduction>
    </actuator>
  </transmission>
  <transmission name="tran_tracao_1t">
    <type>transmission_interface/SimpleTransmission</type>
    <joint name="joint_eixo_tracao_b1">
      <hardwareInterface>hardware_interface/VelocityJointInterface</hardwareInterface>
    </joint>
    <actuator name="servo26">
      <hardwareInterface>VelocityJointInterface</hardwareInterface>
      <mechanicalReduction>1</mechanicalReduction>
    </actuator>
  </transmission>
  <transmission name="tran_tracao_2t">
    <type>transmission_interface/SimpleTransmission</type>
    <joint name="joint_eixo_tracao_b2">
      <hardwareInterface>hardware_interface/VelocityJointInterface</hardwareInterface>
    </joint>
    <actuator name="servo28">
      <hardwareInterface>VelocityJointInterface</hardwareInterface>
      <mechanicalReduction>1</mechanicalReduction>
    </actuator>
  </transmission>
</robot>
